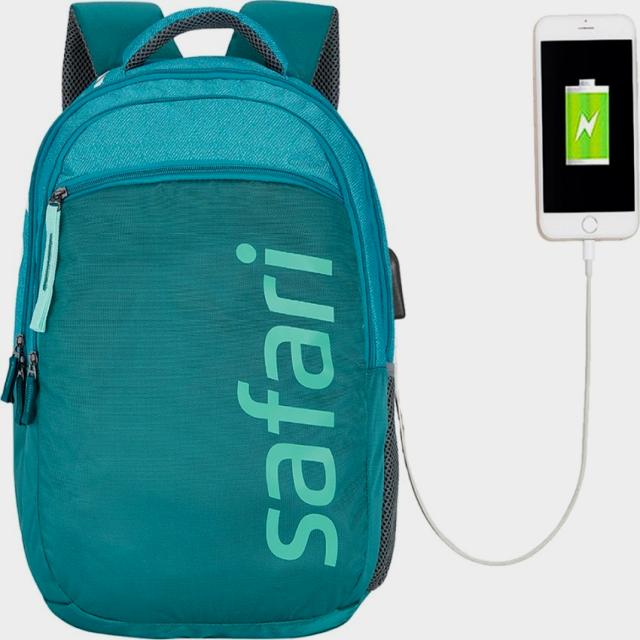backpack: (2, 2, 472, 640)
